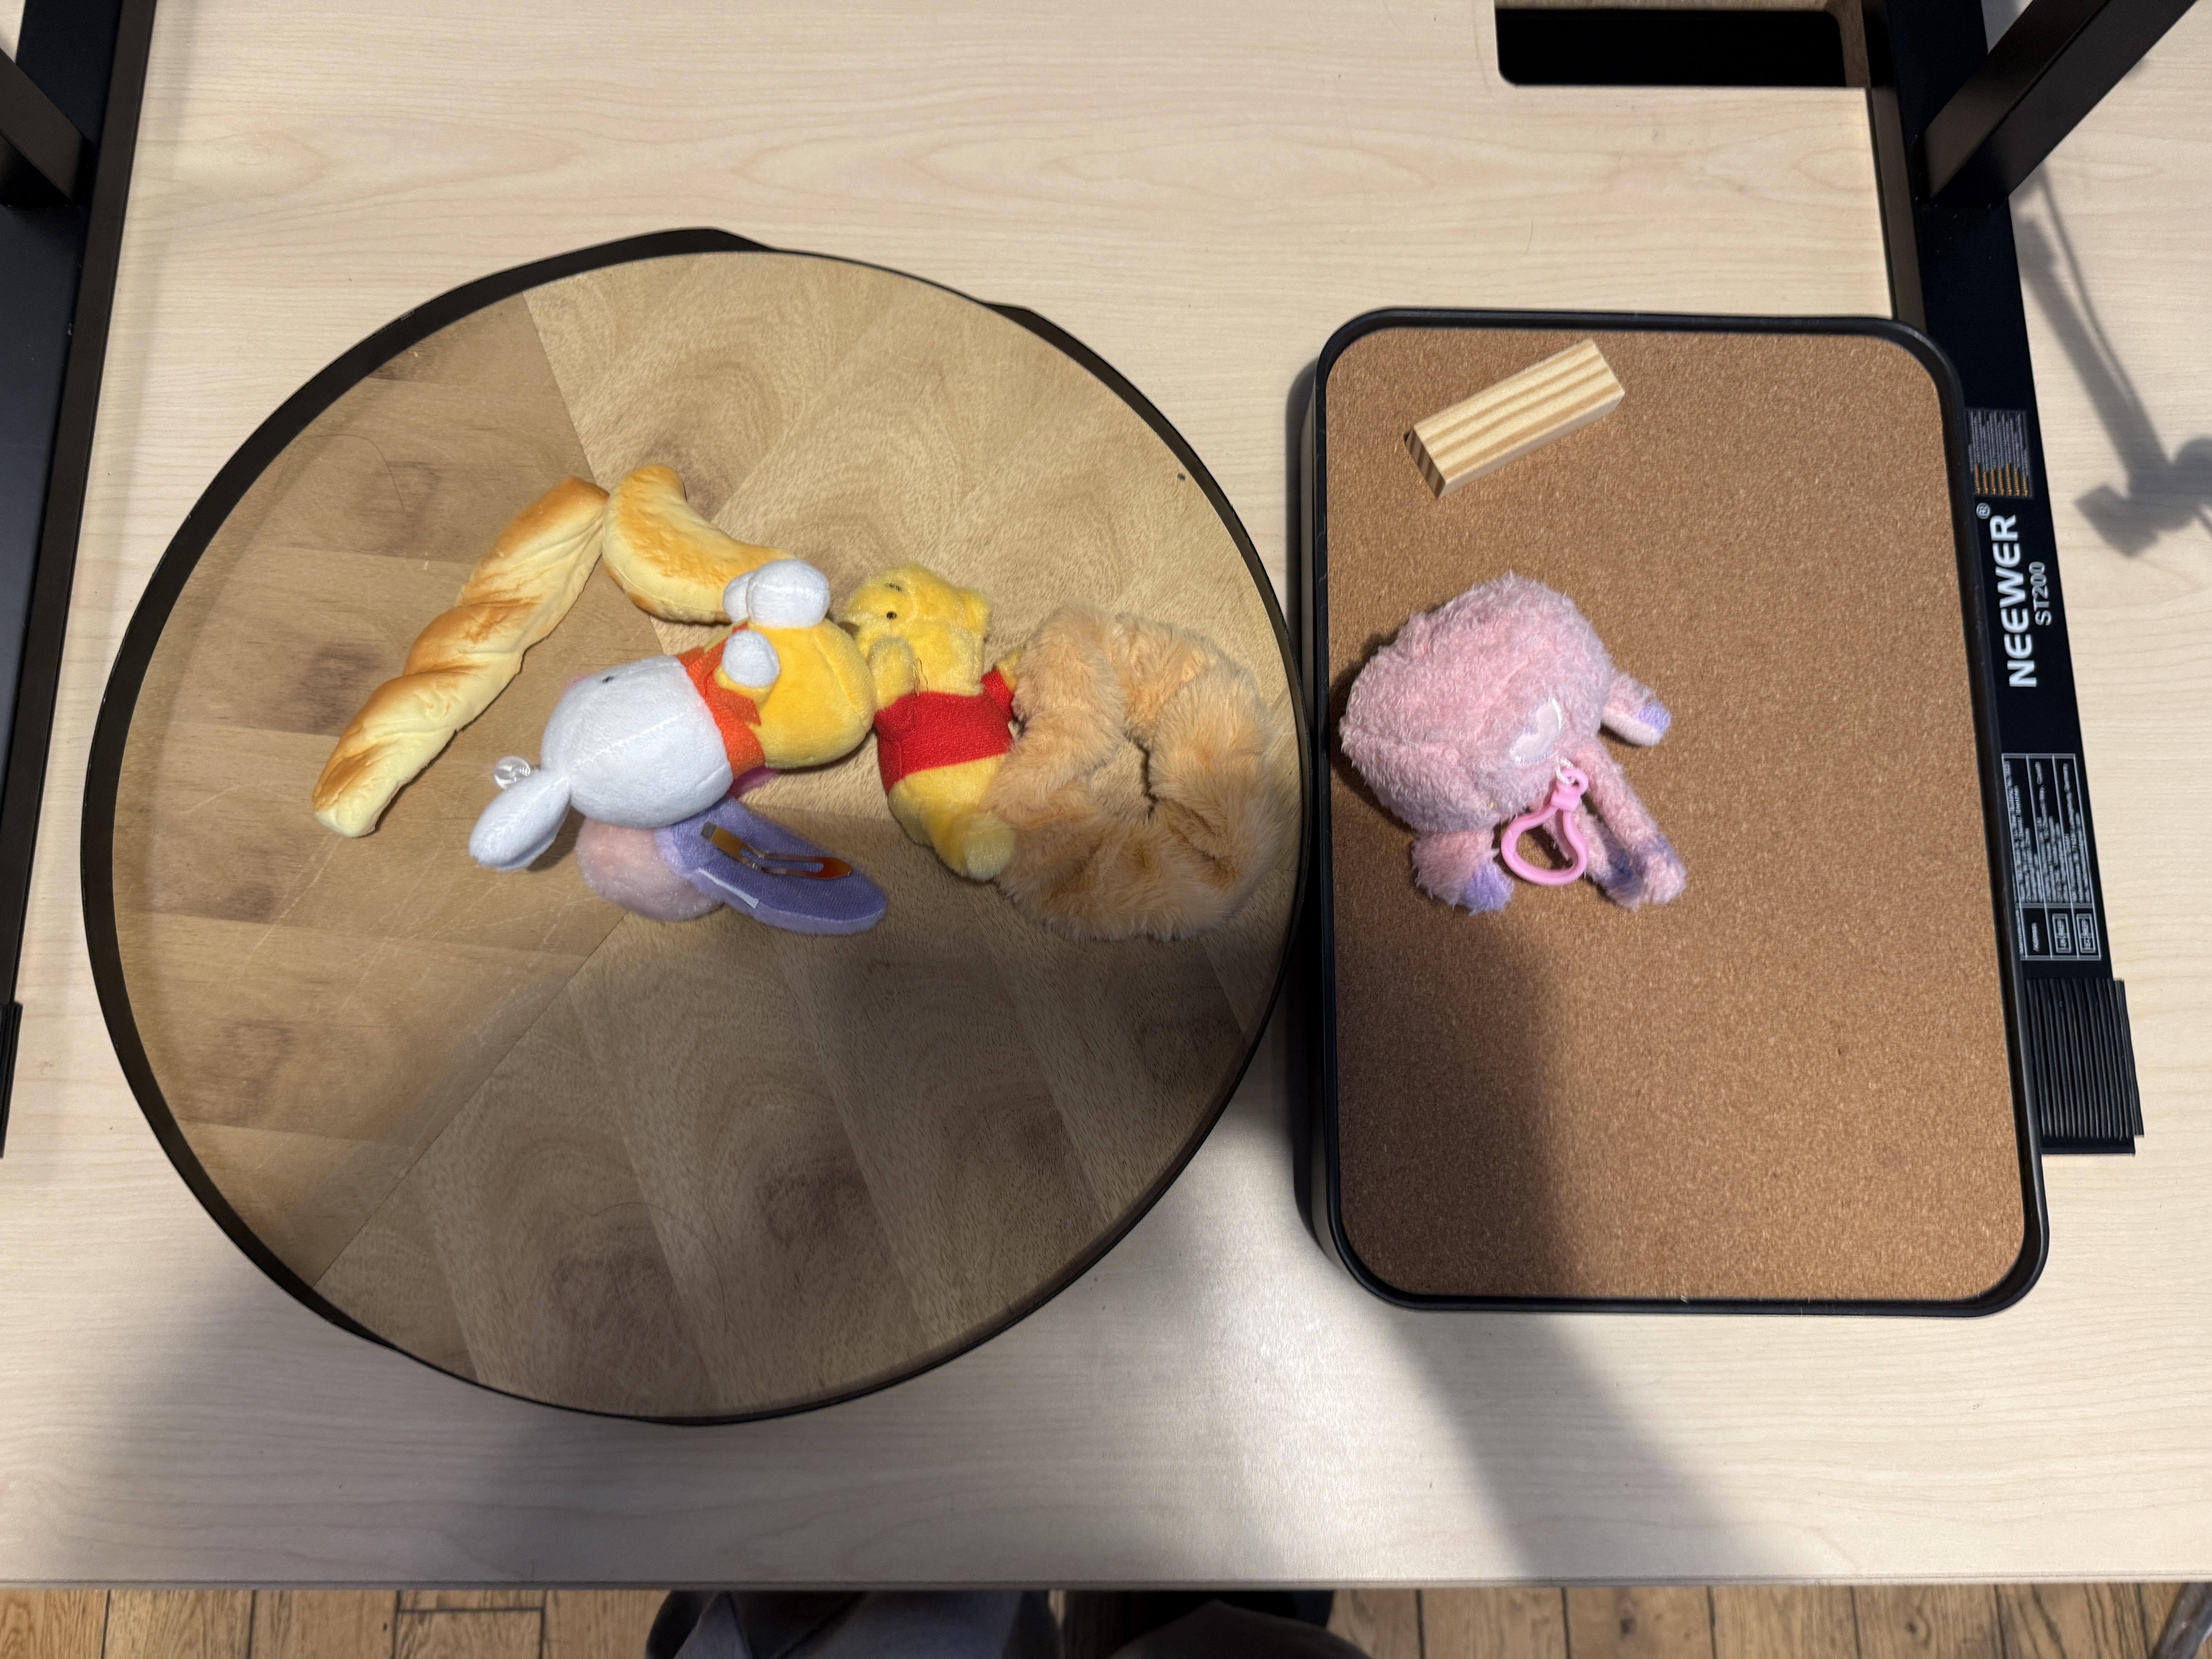block: (1407, 338, 1629, 498)
bread: (310, 477, 610, 833), (606, 460, 808, 617)
doll: (840, 561, 1278, 943), (1341, 573, 1689, 913), (474, 594, 878, 864), (575, 798, 888, 932)
